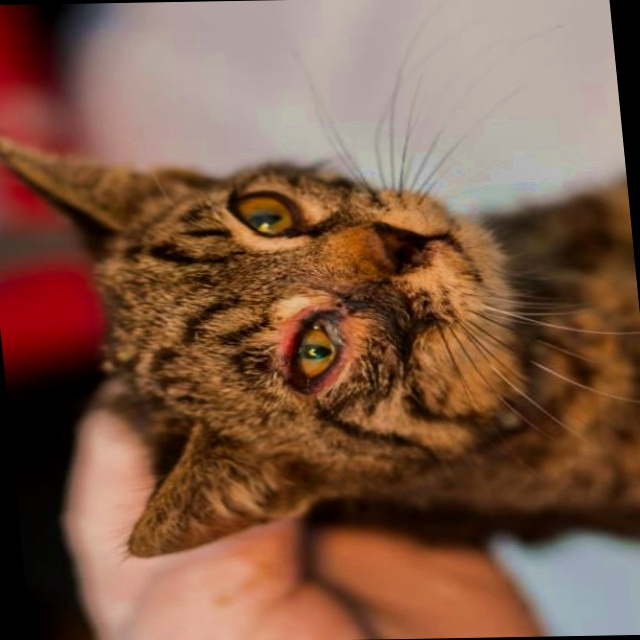eye_infection: (271, 307, 358, 397)
